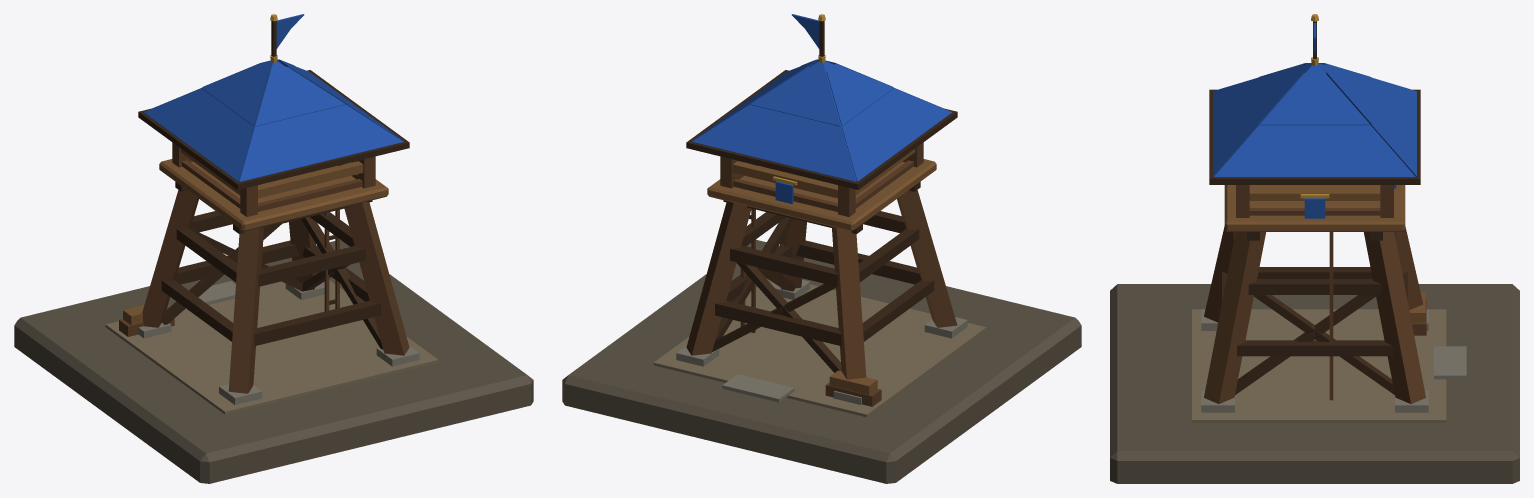
3 renders of one model, left to right at view 1: azimuth 30°, elevation 25°; view 2: azimuth 150°, elevation 25°; view 3: azimuth 270°, elevation 25°, orthographic. The views are drawn at different scales.
Visible parts, largest first — view 1: 哨塔_1星; view 2: 哨塔_1星; view 3: 哨塔_1星.
Boxes of the visible parts, left/top/right/bottom form: 哨塔_1星: left=14, top=14, right=533, bottom=483; 哨塔_1星: left=562, top=14, right=1081, bottom=483; 哨塔_1星: left=1110, top=14, right=1519, bottom=483.
Size of the model in its own units: 1 by 1.03 by 1.
